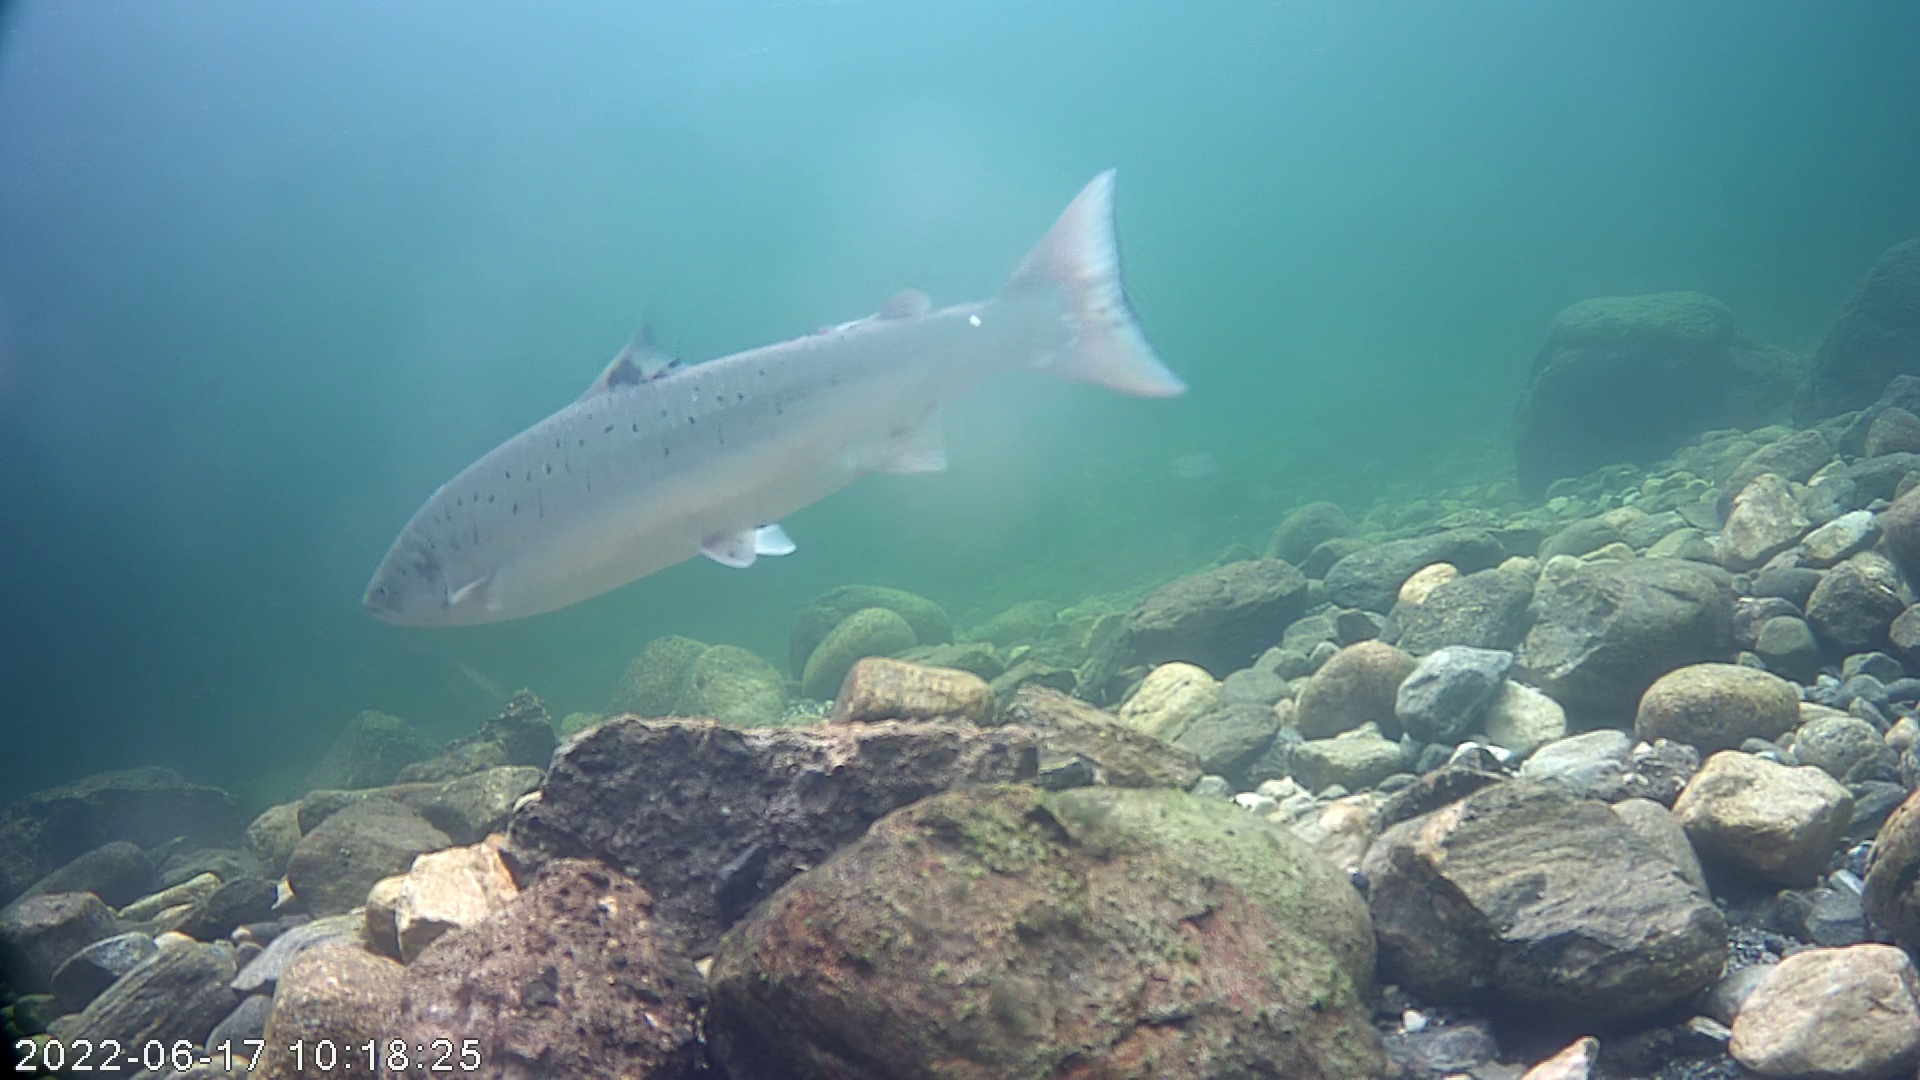salmon: (352, 166, 1193, 636)
